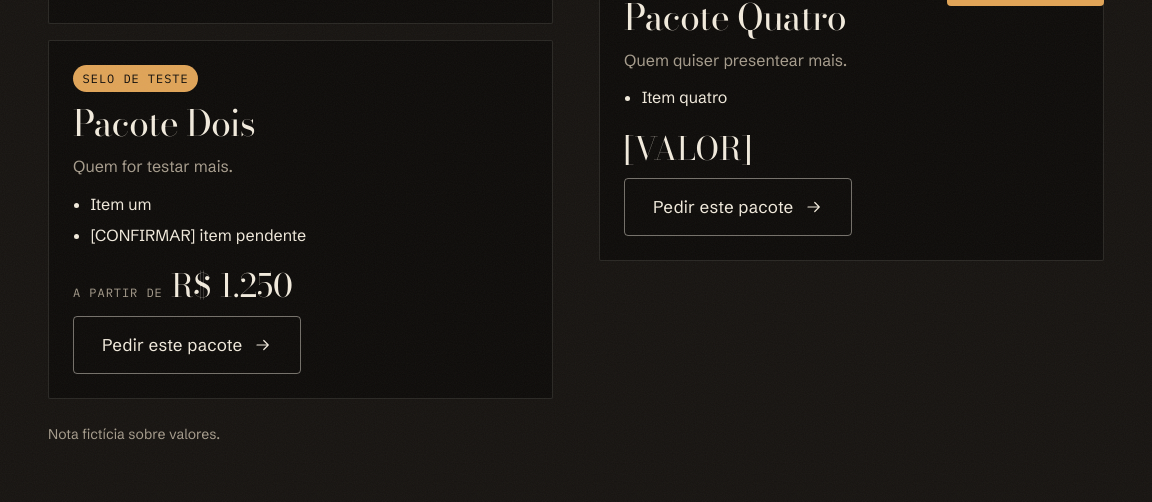
pacotes › o botão de cada pacote leva ao formulário com o tipo certo
(page scrolled)
Click the link "Pedir este pacote" below "R$ 1.250" at (187, 345), box [73,316,301,374]
(page scrolled)
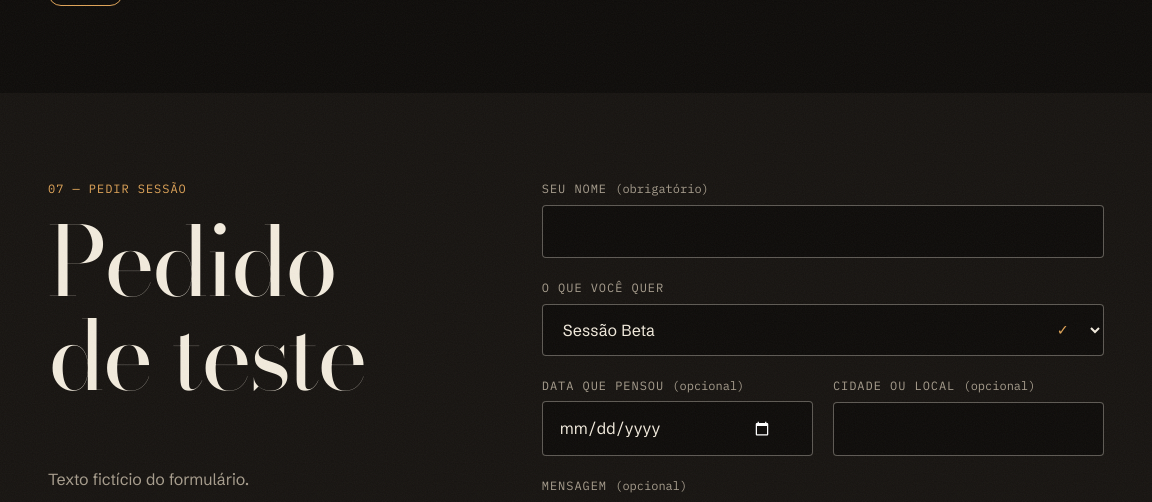
Now the dropdown labelled "O que você quer" shows "Sessão Beta", box [542,304,1104,356]
